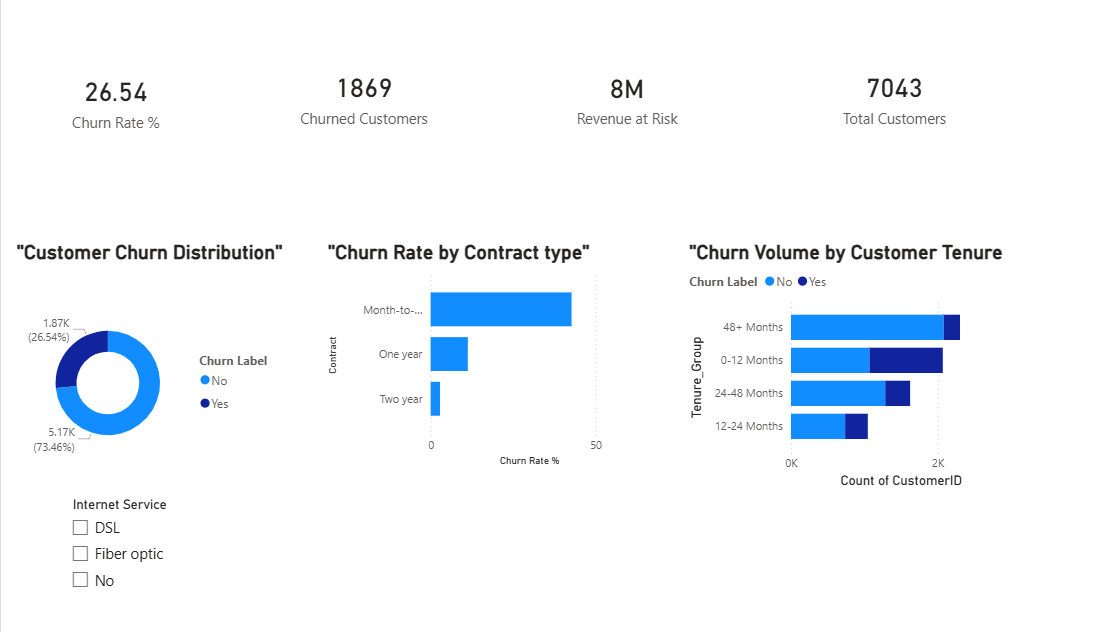

The page's visual inventory and layout, read from the dashboard file:
{"tool":"powerbi","page":{"name":"Page 1","canvas":[1280,720],"ordinal":0},"visuals":[{"type":"card","fields":{"Values":["Telecom_churn.Churn Rate %"]},"box":[12.3,0,279.9,279.9],"z":0},{"type":"card","fields":{"Values":["Telecom_churn.Churn Rate %"]},"box":[12.3,9.6,227.8,231.9],"z":1000},{"type":"card","fields":{"Values":["Telecom_churn.Churned Customers"]},"box":[270.3,0,256.6,241.5],"z":2000},{"type":"card","fields":{"Values":["Telecom_churn.Revenue at Risk"]},"box":[548.9,6.9,277.2,229.2],"z":3000},{"type":"card","fields":{"Values":["Telecom_churn.Total Customers"]},"box":[841.2,19.2,279.9,203.1],"z":4000},{"type":"donutChart","title":"\"Customer Churn Distribution\"","fields":{"Category":["Telecom_churn.Churn Label"],"Y":["CountNonNull(Telecom_churn.CustomerID)"]},"box":[12.3,279.9,303.3,288.2],"z":5000},{"type":"clusteredBarChart","title":"\"Churn Rate by Contract type\"","fields":{"Category":["Telecom_churn.Contract"],"Y":["Telecom_churn.Churn Rate %"]},"box":[354,279.9,347.2,252.5],"z":6000},{"type":"barChart","title":"\"Churn Volume by Customer Tenure","fields":{"Category":["Telecom_churn.Tenure_Group"],"Y":["CountNonNull(Telecom_churn.CustomerID)"],"Series":["Telecom_churn.Churn Label"]},"box":[750.6,279.9,370.5,275.8],"z":7000},{"type":"slicer","title":"im","fields":{"Values":["Telecom_churn.Internet Service"]},"box":[65.9,555.7,270.3,150.9],"z":8000}]}

Visuals, with their boxes in screenshot pixels (x1, y1, x2, y2), scaled from the page's 1280x720 canvas onto the 1103x632 screenshot:
card - Telecom_churn.Churn Rate %: [11, 0, 252, 246]
card - Telecom_churn.Churn Rate %: [11, 8, 207, 212]
card - Telecom_churn.Churned Customers: [233, 0, 454, 212]
card - Telecom_churn.Revenue at Risk: [473, 6, 712, 207]
card - Telecom_churn.Total Customers: [725, 17, 966, 195]
""Customer Churn Distribution"" donutChart: [11, 246, 272, 499]
""Churn Rate by Contract type"" clusteredBarChart: [305, 246, 604, 467]
""Churn Volume by Customer Tenure" barChart: [647, 246, 966, 488]
"im" slicer: [57, 488, 290, 620]
